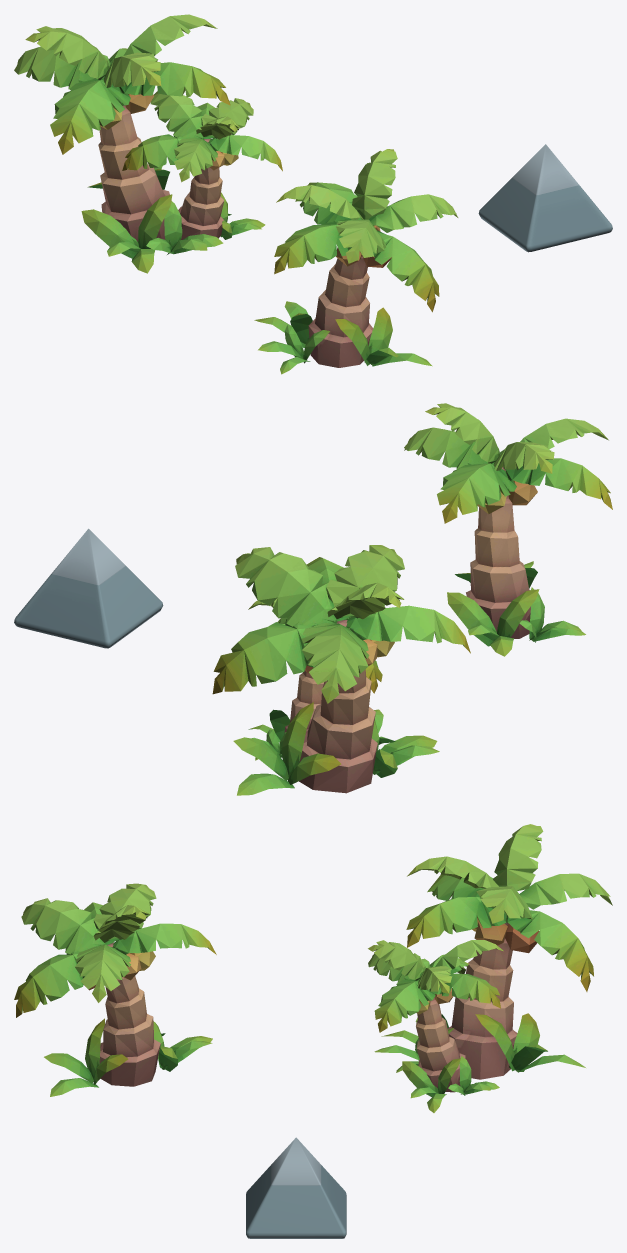
File: Props.fbx
3 views of the same model, one above another, from view 1: azimuth 30°, elevation 25°; view 2: azimuth 150°, elevation 25°; view 3: azimuth 270°, elevation 25° (orthographic). The views are drawn at different scales.
Parts seen in each view (by area): view 1: yezishu01, yezishu02, 三角锥; view 2: yezishu01, yezishu02, 三角锥; view 3: yezishu01, yezishu02, 三角锥.
Part boxes in pixels (x1,y1,x2,y2): yezishu01: [14, 14, 282, 273]; yezishu02: [254, 149, 458, 374]; 三角锥: [478, 144, 612, 252]; yezishu01: [212, 545, 470, 795]; yezishu02: [404, 403, 612, 656]; 三角锥: [14, 528, 163, 648]; yezishu01: [368, 824, 612, 1112]; yezishu02: [14, 883, 216, 1096]; 三角锥: [246, 1137, 346, 1238].
Size of the model in its own units: 18.98 by 8.33 by 21.37.
